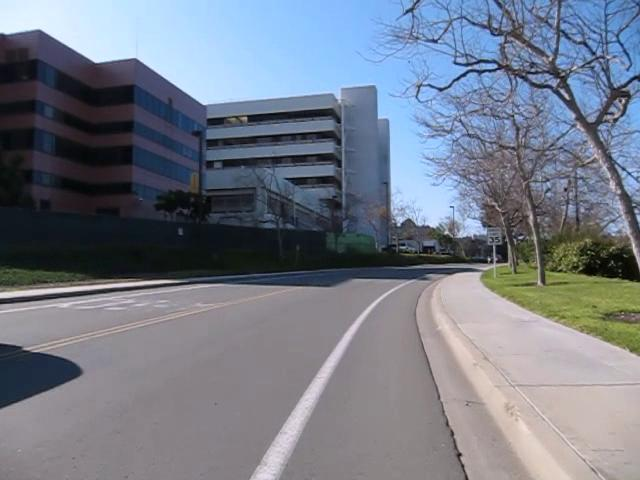speedLimit35: (486, 225, 503, 246)
